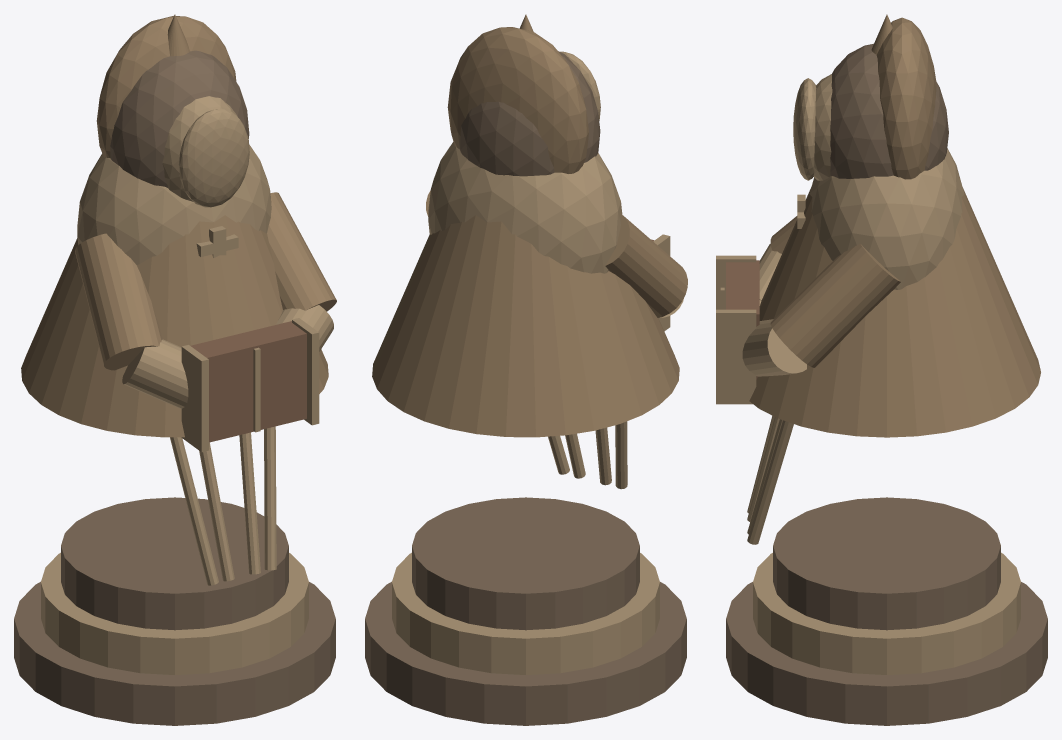
Rendered from grigor_narekatsi_bronze_statue 5.glb.
The picture shows the model from 3 angles, left to right: view 1: azimuth 30°, elevation 25°; view 2: azimuth 150°, elevation 25°; view 3: azimuth 270°, elevation 25°; orthographic projection.
Parts seen in each view (by area): view 1: world; view 2: world; view 3: world.
Part boxes in pixels (<box>): world: <box>14,14,336,725</box>; world: <box>365,14,687,725</box>; world: <box>716,14,1047,725</box>.
Size of the model in its own units: 0.96 by 2.12 by 0.99.
